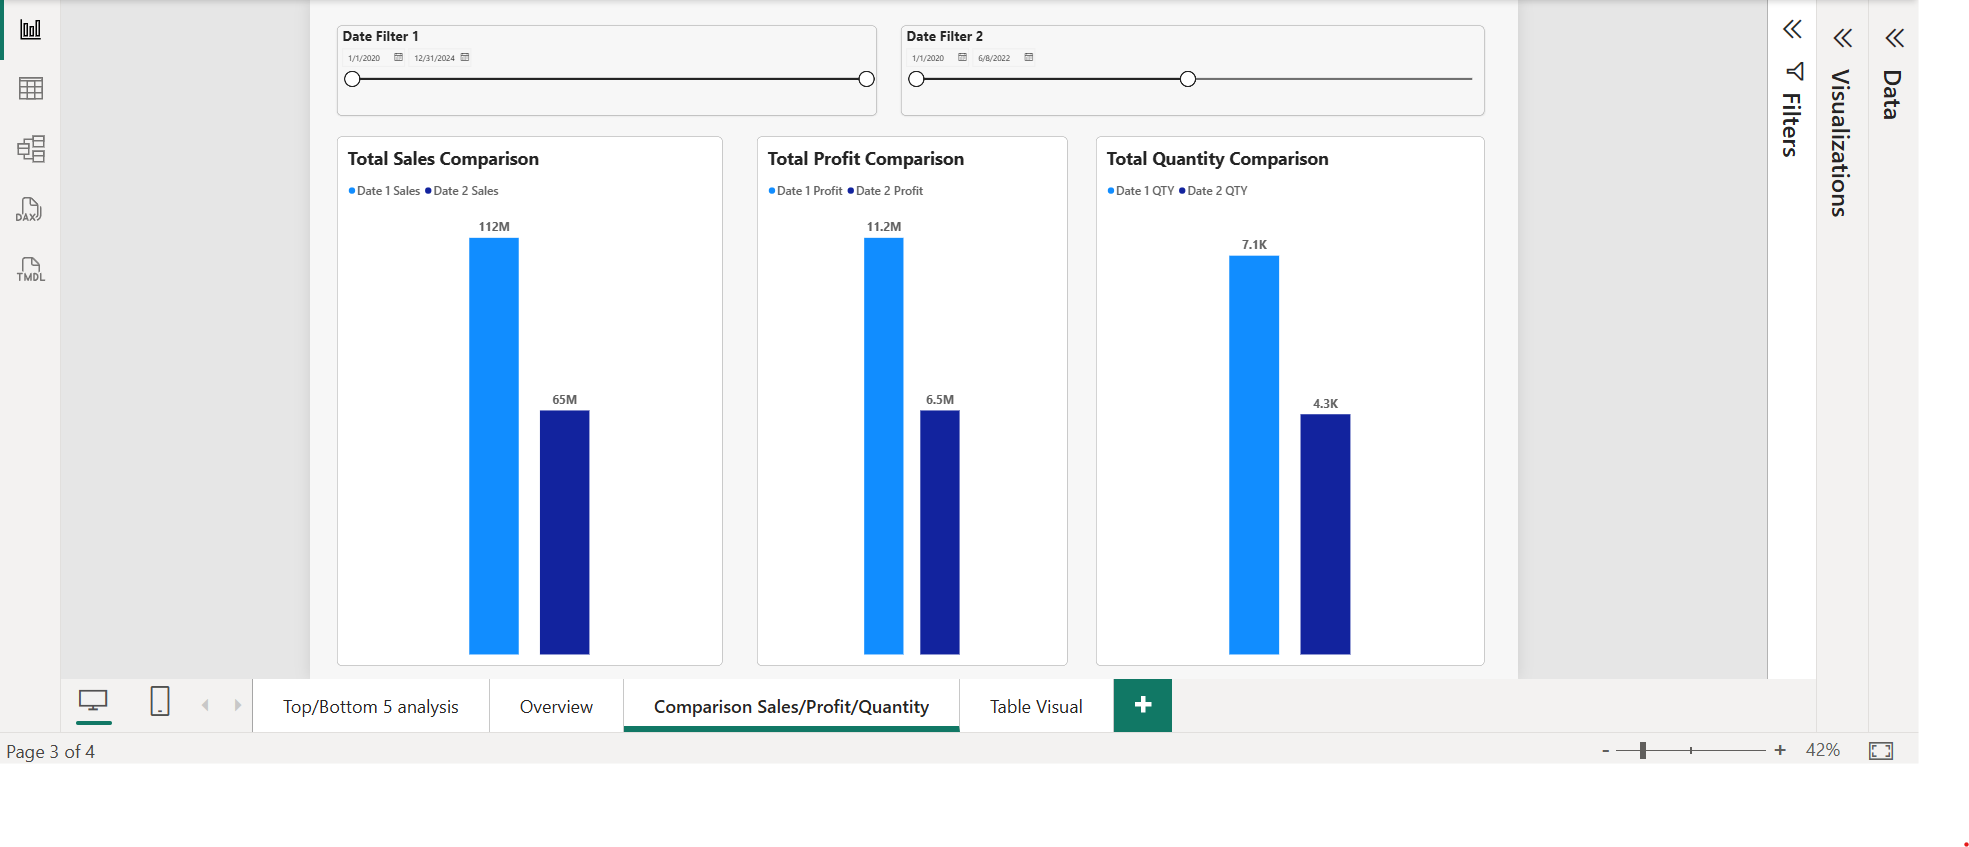

The dashboard page shown, as its layout file describes it:
{"tool":"powerbi","page":{"name":"Comparison Sales/Profit/Quantity","canvas":[1920,1080],"ordinal":2},"visuals":[{"type":"slicer","fields":{"Values":["Date Table 1.Date"]},"box":[42.9,40.6,858.9,143.2],"z":0},{"type":"slicer","fields":{"Values":["Date Table 2.Date"]},"box":[940.1,40.6,928.1,143.2],"z":1000},{"type":"clusteredColumnChart","title":"Total Sales Comparison ","fields":{"Y":["Sum(Fact Table.Net Sales )","Measure data.Sum of Net Sales"]},"box":[42.9,217.1,613.2,842.2],"z":2000},{"type":"clusteredColumnChart","title":"Total Profit Comparison ","fields":{"Y":["Sum(Fact Table.Profit)","Measure data.Profit 2"]},"box":[711,217.1,493.9,842.2],"z":3000},{"type":"clusteredColumnChart","title":"Total Quantity Comparison ","fields":{"Y":["Sum(Fact Table.Units Sold)","Measure data.Date 2 QTY"]},"box":[1250.2,217.1,618,842.2],"z":4000}]}

Visuals, with their boxes on the page's 1920x1080 design canvas (x1, y1, x2, y2). These are canvas units, not pixel positions in the 1969x847 screenshot, which may show the page scaled, cropped or inside an application window:
slicer - Date Table 1.Date: box(43, 41, 902, 184)
slicer - Date Table 2.Date: box(940, 41, 1868, 184)
"Total Sales Comparison " clusteredColumnChart: box(43, 217, 656, 1059)
"Total Profit Comparison " clusteredColumnChart: box(711, 217, 1205, 1059)
"Total Quantity Comparison " clusteredColumnChart: box(1250, 217, 1868, 1059)
